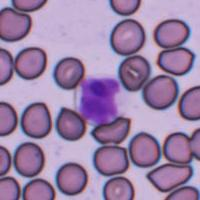M: (75, 74, 123, 125)
